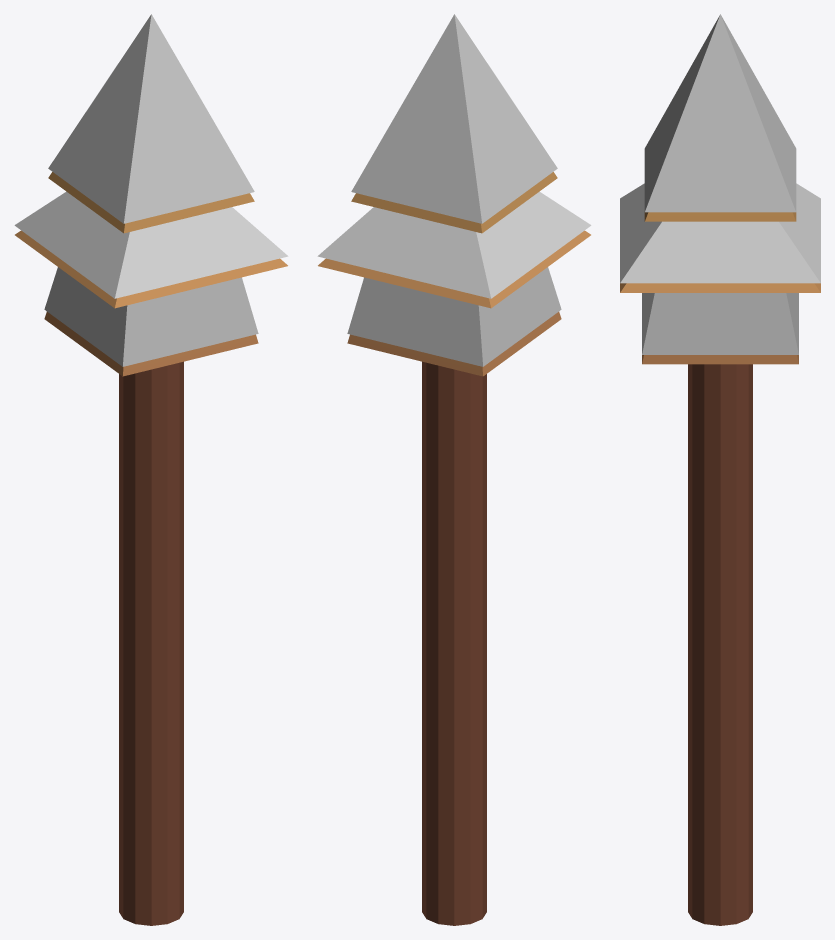
The model's file is Tree_15_winter_gradient_yellow_vc.fbx.
The picture shows the model from 3 angles, left to right: view 1: azimuth 30°, elevation 25°; view 2: azimuth 150°, elevation 25°; view 3: azimuth 270°, elevation 25°; orthographic projection.
Visible parts, largest first — view 1: Tree_15_winter_gradient_yellow_vc; view 2: Tree_15_winter_gradient_yellow_vc; view 3: Tree_15_winter_gradient_yellow_vc.
Boxes of the visible parts, <box> form: Tree_15_winter_gradient_yellow_vc: <box>14,14,288,925</box>; Tree_15_winter_gradient_yellow_vc: <box>317,14,591,925</box>; Tree_15_winter_gradient_yellow_vc: <box>620,14,820,925</box>.
Bounding box in the file's own units: 68.73 × 339 × 68.73.
